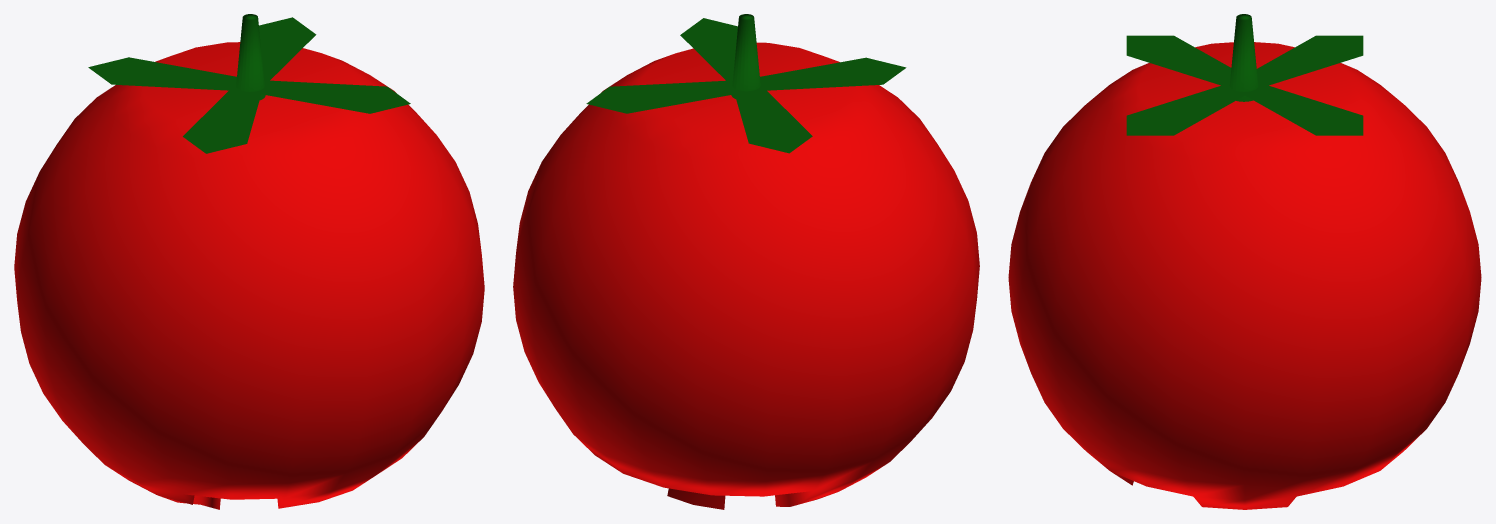
Rendered from yoloswagerinho.fbx.
The picture shows the model from 3 angles, left to right: view 1: azimuth 30°, elevation 25°; view 2: azimuth 150°, elevation 25°; view 3: azimuth 270°, elevation 25°; orthographic projection.
Parts seen in each view (by area): view 1: pSphere1, pPlane1; view 2: pSphere1, pPlane1; view 3: pSphere1, pPlane1.
Part boxes in pixels (x1=…): pSphere1: x1=14, y1=14, x2=484, y2=509; pPlane1: x1=88, y1=17, x2=410, y2=153; pSphere1: x1=513, y1=14, x2=979, y2=509; pPlane1: x1=586, y1=18, x2=906, y2=153; pSphere1: x1=1008, y1=14, x2=1481, y2=509; pPlane1: x1=1126, y1=35, x2=1363, y2=135.
Size of the model in its own units: 2 by 2.17 by 2.
